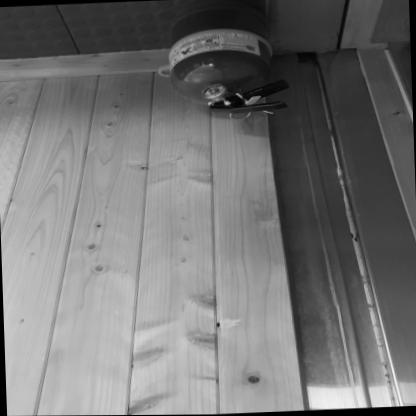FE: (163, 0, 277, 119)
